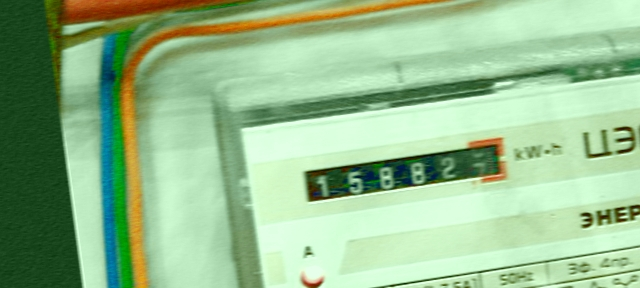1: (314, 176, 331, 202)
2: (438, 156, 457, 184)
5: (344, 171, 363, 198)
7: (470, 162, 486, 180)
8: (406, 161, 426, 188), (375, 167, 395, 193)
screen: (287, 131, 519, 221)
